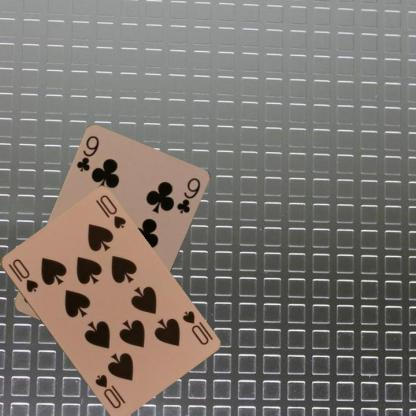10s: (5, 256, 39, 294), (179, 307, 210, 347)
9c: (74, 133, 100, 173)
